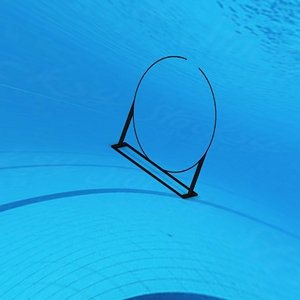circle: (105, 46, 220, 205)
